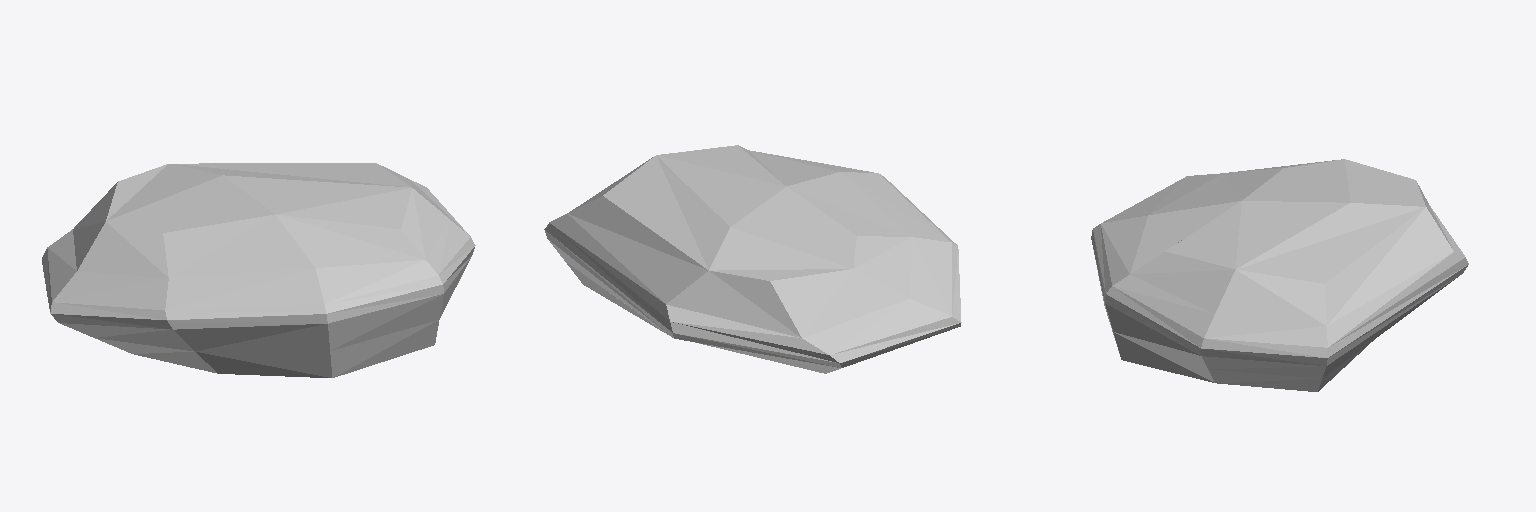
The model's file is FB_rockBigFlat_Env.obj.
3 views of the same model, side by side, from view 1: azimuth 30°, elevation 25°; view 2: azimuth 150°, elevation 25°; view 3: azimuth 270°, elevation 25° (orthographic).
Visible parts, largest first — view 1: rock_big_flat; view 2: rock_big_flat; view 3: rock_big_flat.
Boxes of the visible parts, box(x1,y1,x2,y2) form: rock_big_flat: box(42, 163, 475, 377); rock_big_flat: box(544, 145, 961, 373); rock_big_flat: box(1091, 159, 1468, 391).
Size of the model in its own units: 738 by 196 by 605.